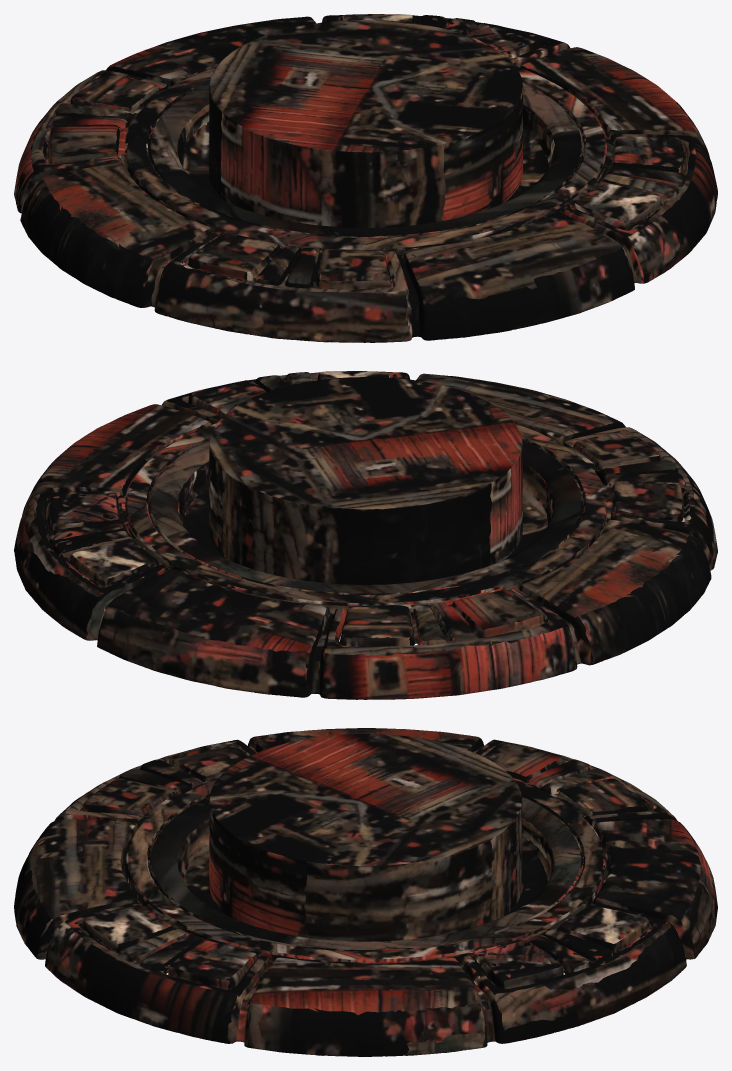
Rendered from TeleportPad.glb.
3 renders of one model, top to bottom at view 1: azimuth 30°, elevation 25°; view 2: azimuth 150°, elevation 25°; view 3: azimuth 270°, elevation 25°, orthographic.
Visible parts, largest first — view 1: geometry_0; view 2: geometry_0; view 3: geometry_0.
Part boxes in pixels (x1,y1,x2,y2): geometry_0: (14, 14, 717, 342); geometry_0: (14, 371, 717, 699); geometry_0: (14, 728, 717, 1056).
Size of the model in its own units: 5.86 by 1 by 5.86.
Materials: 1 (1 with a texture image).
